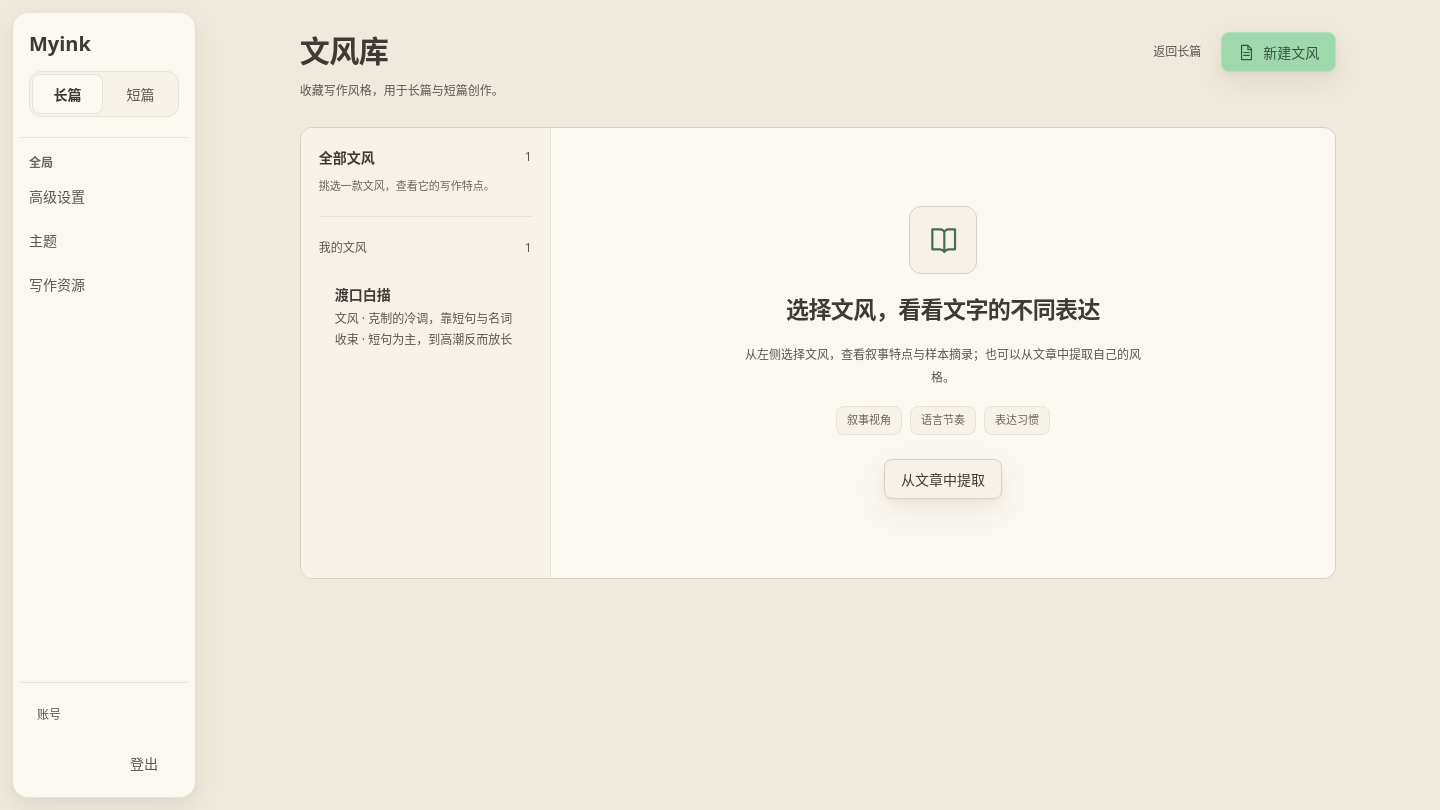
Test: names the eight prose dimensions in Chinese and folds the stats away
The width and height of the screenshot is (1440, 810).
Click the button "渡口白描 文风 · 克制的冷调，靠短句与名词收束 · 短句为主，到高潮反而放长": (425,317) [319,269,532,365]
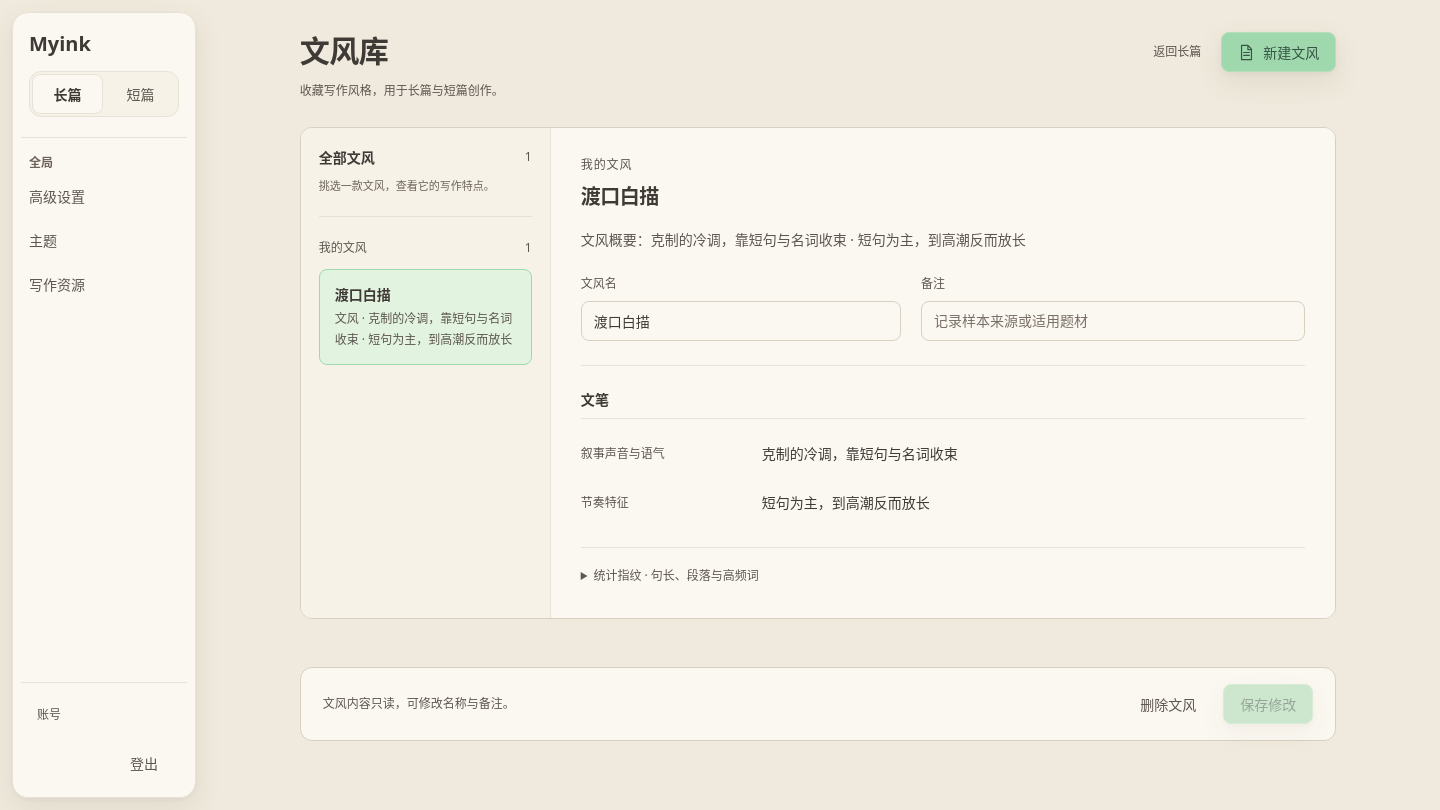
Expected: the text "叙事声音与语气" is shown, [581,445,665,462]
Expected: the text "克制的冷调，靠短句与名词收束" is shown, [762,444,958,463]
Expected: the text "节奏特征" is shown, [581,494,629,511]
